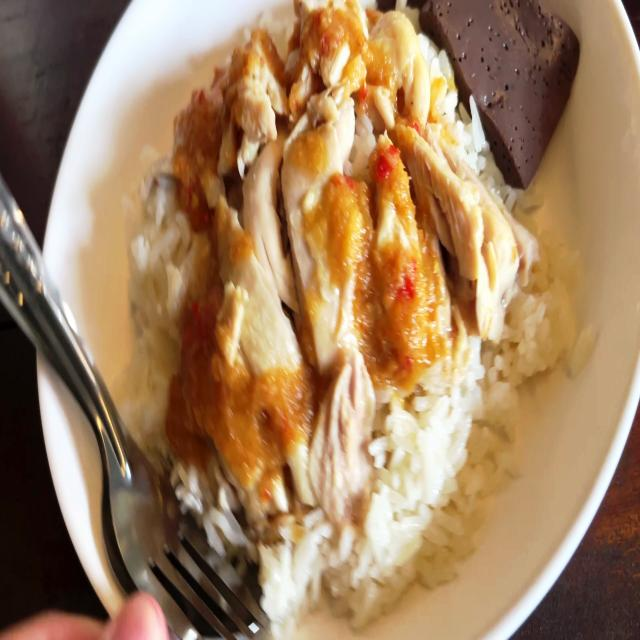boiled_chicken: (173, 0, 484, 496)
boiled_chicken_blood_jelly: (136, 0, 581, 611), (429, 0, 575, 164)
